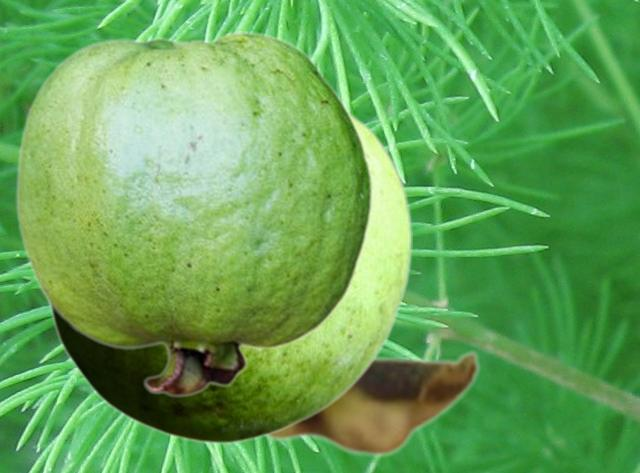guava: (15, 31, 373, 397), (45, 110, 411, 443), (41, 296, 481, 458)
